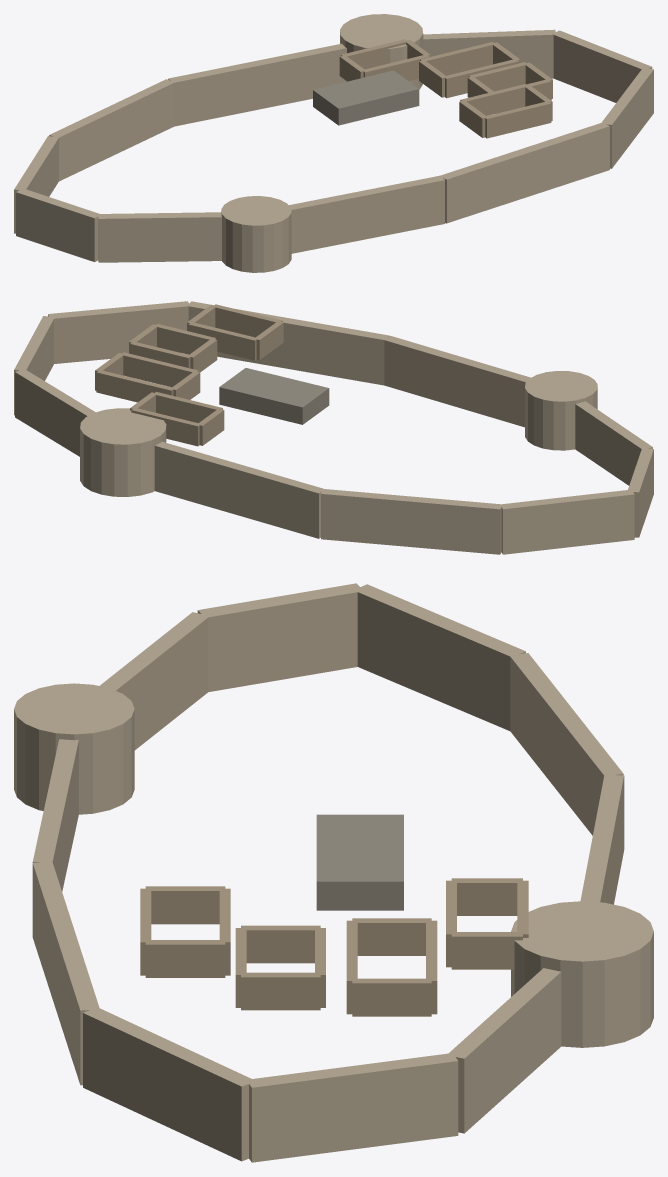
Rendered from Castalla_Castle_1244_v1.glb.
3 views of the same model, one above another, from view 1: azimuth 30°, elevation 25°; view 2: azimuth 150°, elevation 25°; view 3: azimuth 270°, elevation 25° (orthographic). The views are drawn at different scales.
Visible parts, largest first — view 1: world; view 2: world; view 3: world.
Part boxes in pixels (box(x1,y1,x2,y2)): world: box(14, 14, 653, 272); world: box(14, 301, 653, 554); world: box(14, 583, 653, 1162).
Bounding box in the file's own units: 75.18 × 7.57 × 40.3.
